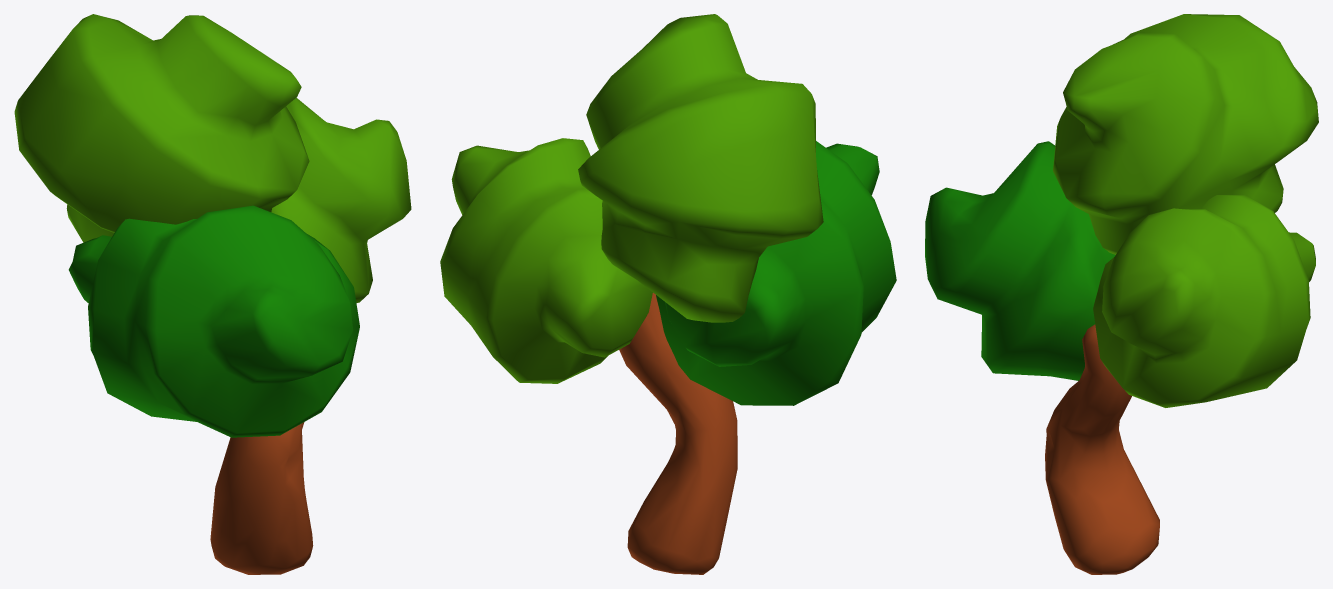
Rendered from TwistedTree.fbx.
3 renders of one model, left to right at view 1: azimuth 30°, elevation 25°; view 2: azimuth 150°, elevation 25°; view 3: azimuth 270°, elevation 25°, orthographic. The views are drawn at different scales.
Parts seen in each view (by area): view 1: TwistedTree_LOD0; view 2: TwistedTree_LOD0; view 3: TwistedTree_LOD0.
Boxes of the visible parts, x1,y1,x2,y2 form: TwistedTree_LOD0: (14, 14, 411, 574); TwistedTree_LOD0: (440, 14, 896, 574); TwistedTree_LOD0: (925, 14, 1318, 574).
Size of what is drawn, in the model's own units: 576 by 838 by 588.
